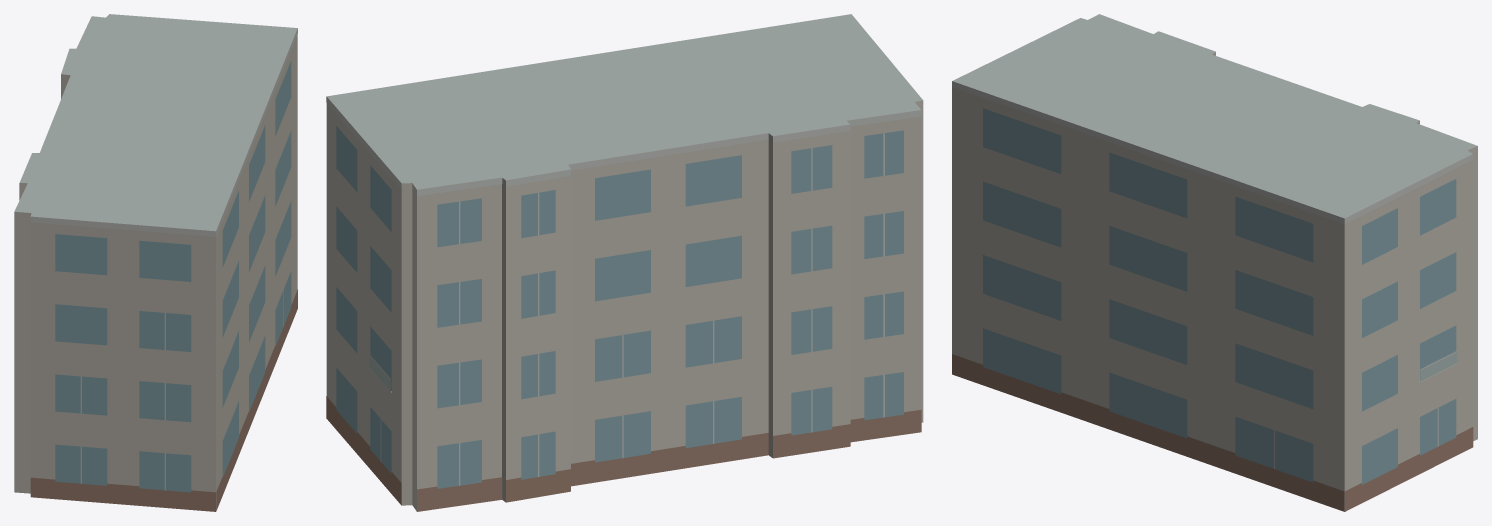
File: survey-upis-32973206.glb
3 views of the same model, side by side, from view 1: azimuth 30°, elevation 25°; view 2: azimuth 150°, elevation 25°; view 3: azimuth 270°, elevation 25° (orthographic). The views are drawn at different scales.
Visible parts, largest first — view 1: survey-upis-32973206.tmp; view 2: survey-upis-32973206.tmp; view 3: survey-upis-32973206.tmp.
Boxes of the visible parts, x1,y1,x2,y2 form: survey-upis-32973206.tmp: (14,14,297,511); survey-upis-32973206.tmp: (326,14,923,511); survey-upis-32973206.tmp: (952,14,1477,511).
Bounding box in the file's own units: 18.25 × 12.2 × 19.82.
